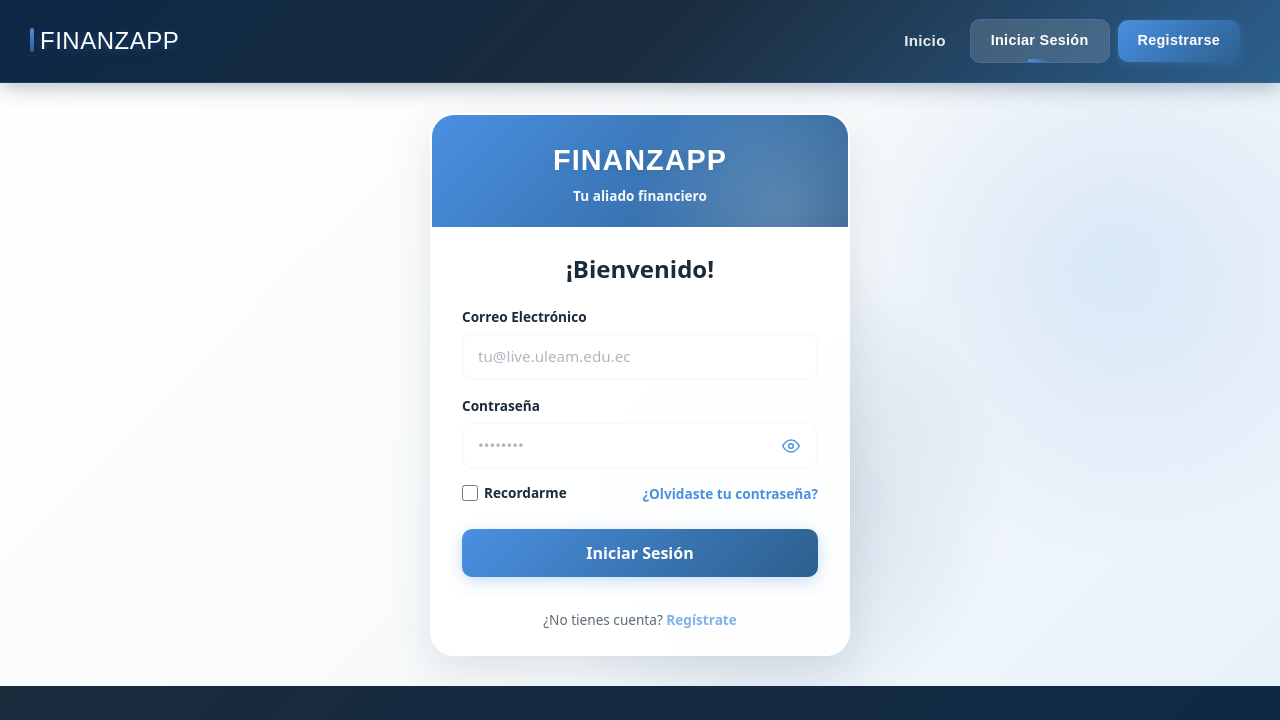
Test case: Login E2E Tests › Validaciones del formulario › Debe mostrar error con credenciales incorrectas
Type "noexiste@live.uleam.edu.ec" into the field with test id "email".
click(640, 357); type("noexiste@live.uleam.edu.ec")  # box [462, 333, 818, 380]
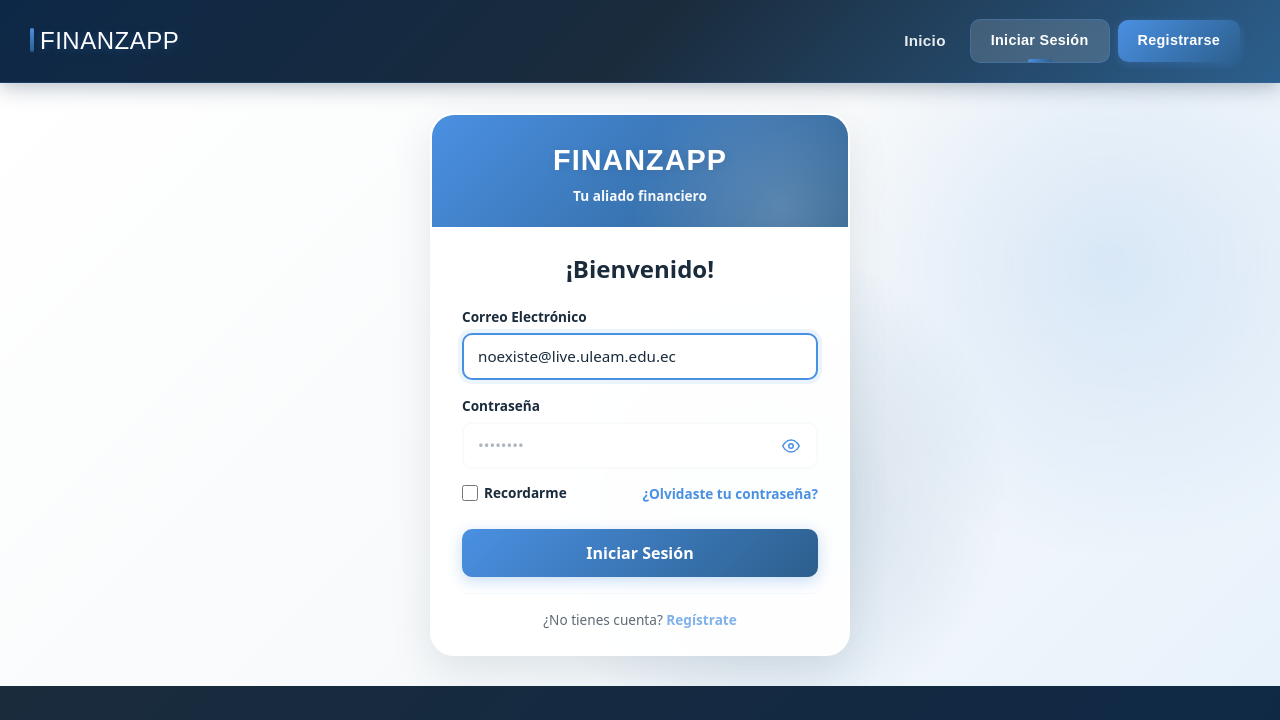
Type "PasswordIncorrecto123#" into the password field with test id "password".
click(640, 446); type("PasswordIncorrecto123#")  # box [462, 422, 818, 469]
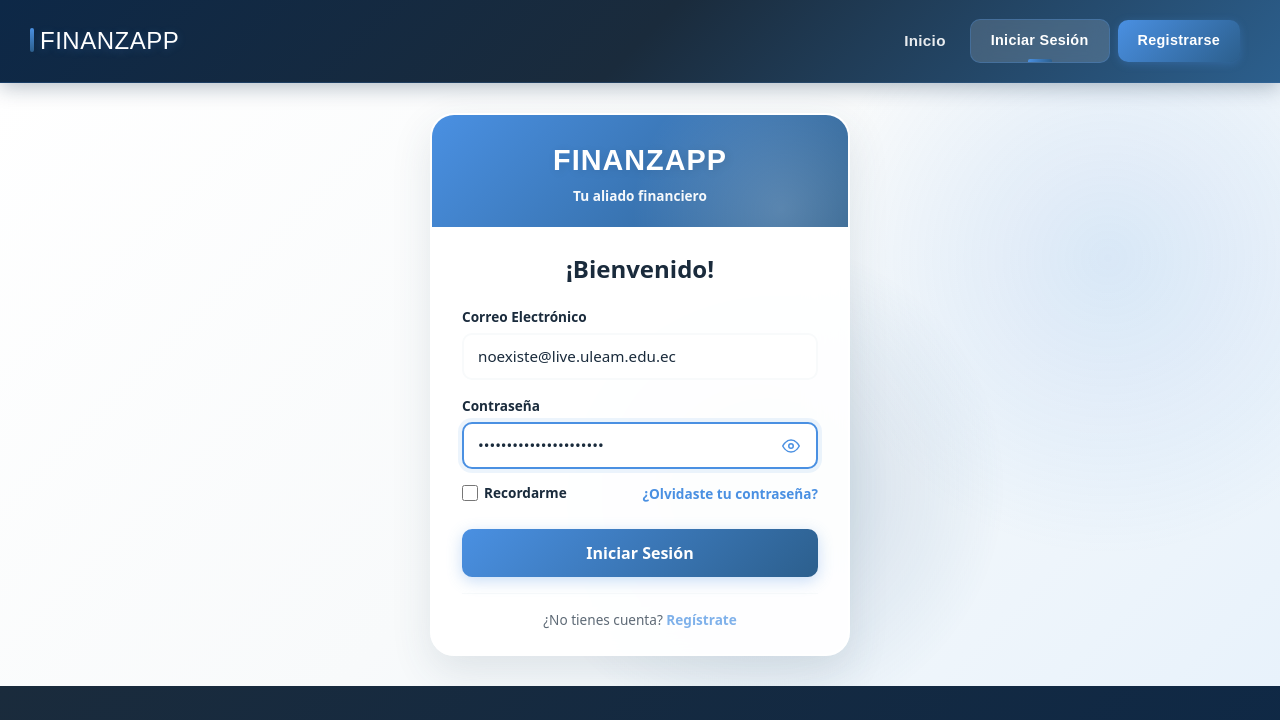
Click the button with test id "btn-login".
click(640, 553)  # box [462, 529, 818, 577]
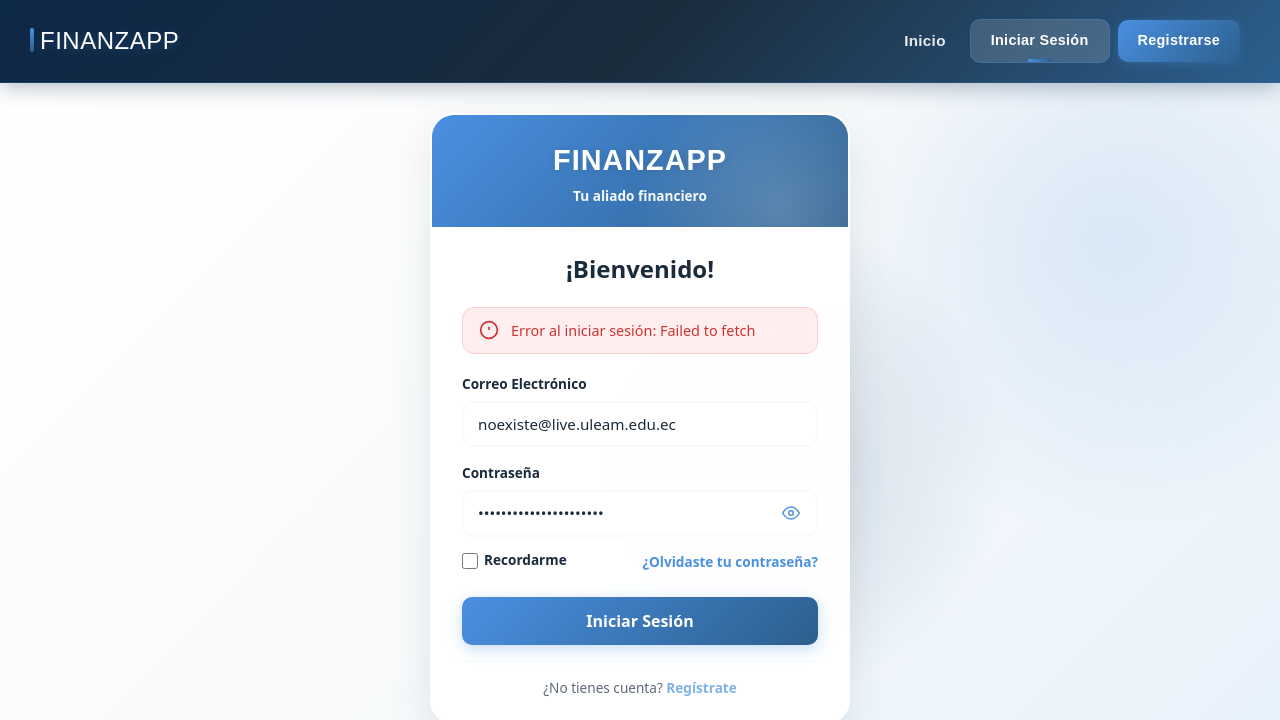
Check: the element with class "alert-error" is shown, box [462, 307, 818, 355]
